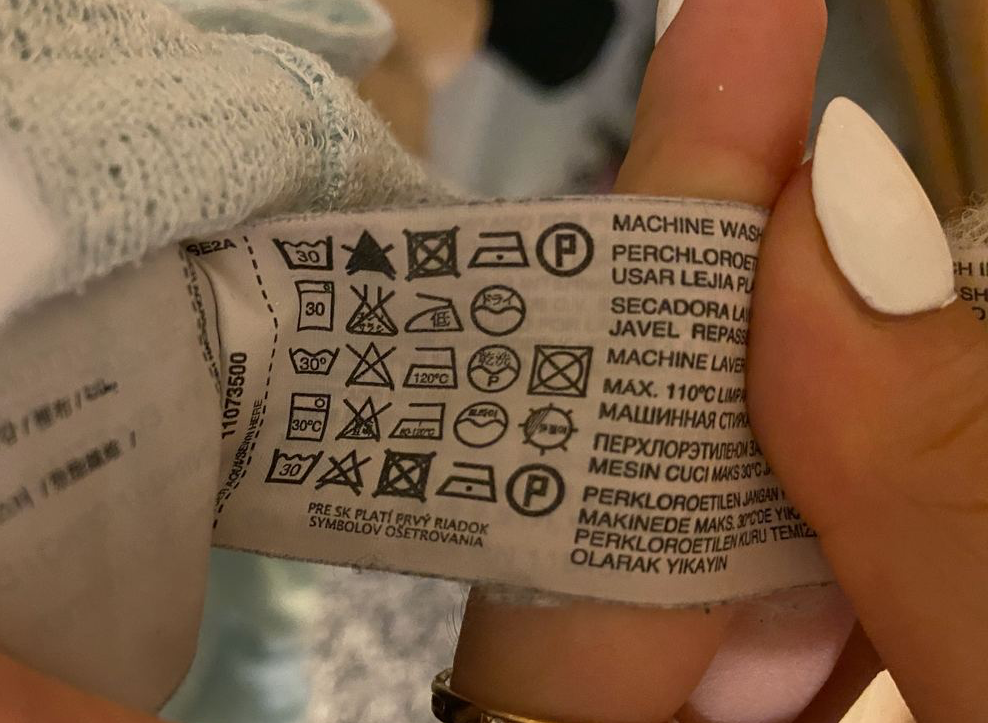do_not_bleach: (341, 225, 401, 281), (342, 338, 401, 391), (318, 449, 371, 499)
do_not_tumble_drying: (527, 339, 594, 399), (401, 223, 463, 282), (373, 443, 432, 505)
dry_clean_tetrachloroethylene_pce_only: (534, 215, 594, 280), (503, 459, 567, 519)
ironing_at_low_temp: (436, 455, 501, 508), (466, 225, 533, 273)
wash_at_or_below_30: (272, 229, 338, 274), (264, 443, 320, 491), (284, 338, 339, 378)
